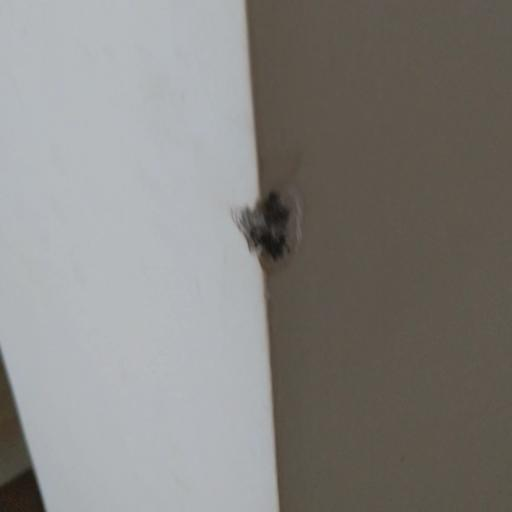spalling: (225, 176, 321, 282)
